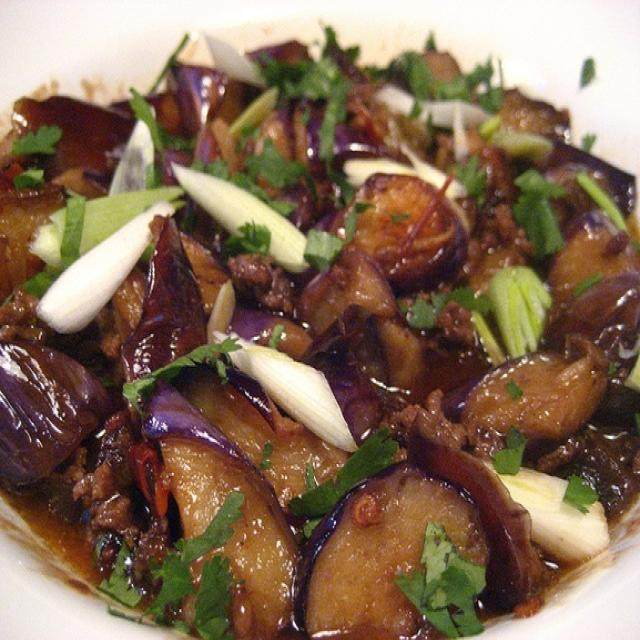鸡蛋料理: (20, 31, 618, 621)
